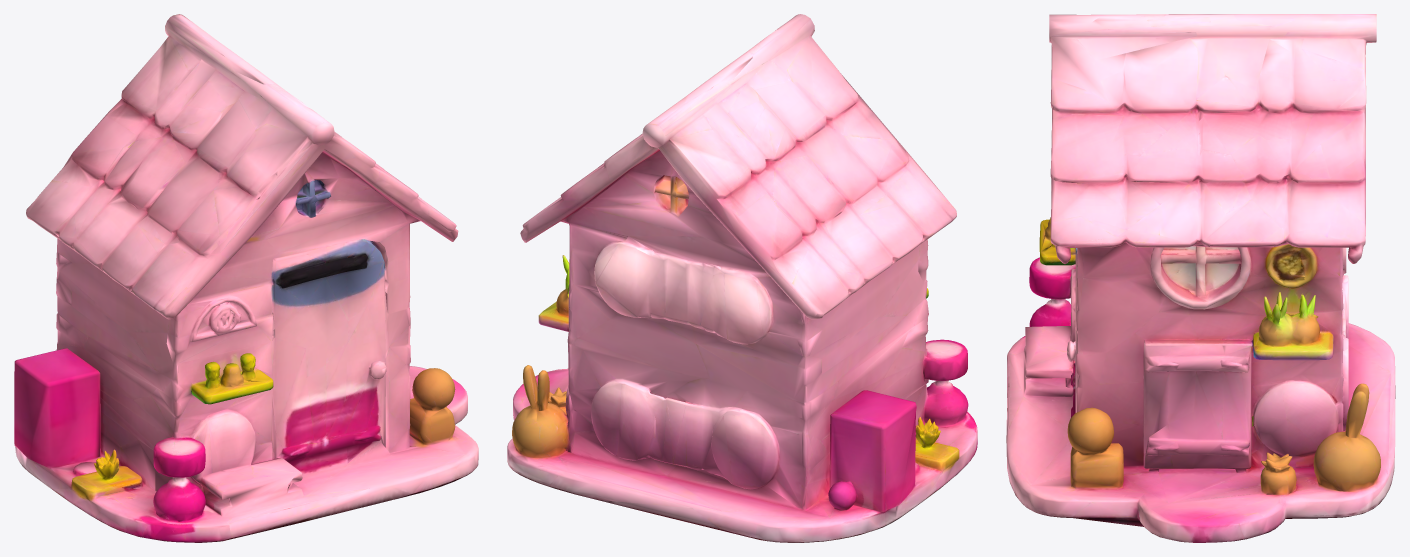
Rendered from clay-workshop.glb.
The picture shows the model from 3 angles, left to right: view 1: azimuth 30°, elevation 25°; view 2: azimuth 150°, elevation 25°; view 3: azimuth 270°, elevation 25°; orthographic projection. The views are drawn at different scales.
Size of the model in its own units: 1.91 by 1.74 by 1.45.
1 material, 1 textured.
